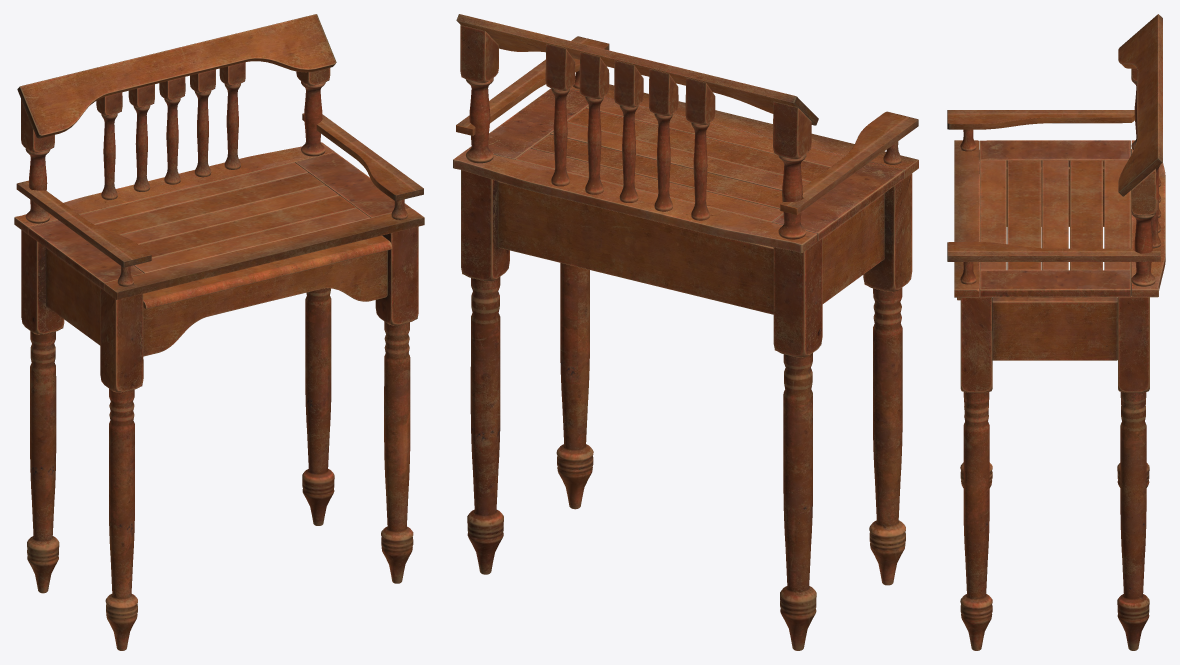
File: Chair.fbx
3 renders of one model, left to right at view 1: azimuth 30°, elevation 25°; view 2: azimuth 150°, elevation 25°; view 3: azimuth 270°, elevation 25°, orthographic. The views are drawn at different scales.
Parts seen in each view (by area): view 1: Unusual Rustic Galleried Side Table.001; view 2: Unusual Rustic Galleried Side Table.001; view 3: Unusual Rustic Galleried Side Table.001.
Boxes of the visible parts, x1,y1,x2,y2 form: Unusual Rustic Galleried Side Table.001: (14, 14, 424, 650); Unusual Rustic Galleried Side Table.001: (453, 14, 918, 650); Unusual Rustic Galleried Side Table.001: (947, 14, 1165, 650).
Size of the model in its own units: 62.01 by 95.99 by 38.24.
Materials: 1 (1 with a texture image).
